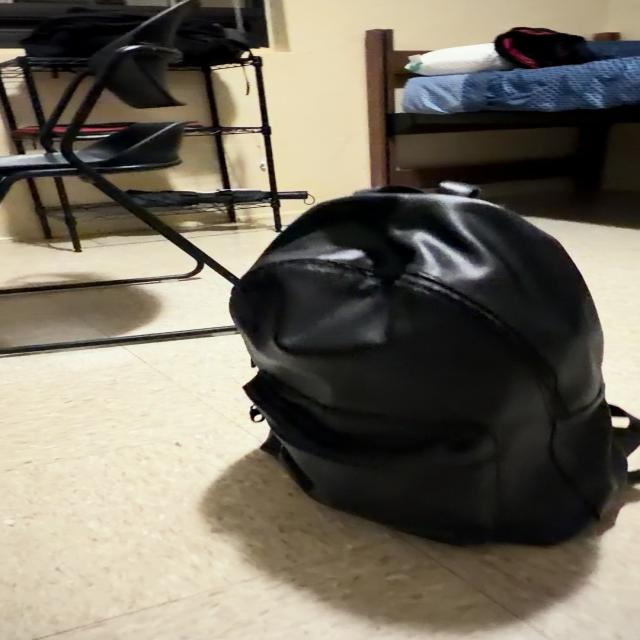backpack: (230, 184, 640, 544), (21, 9, 148, 58), (175, 17, 249, 66)
